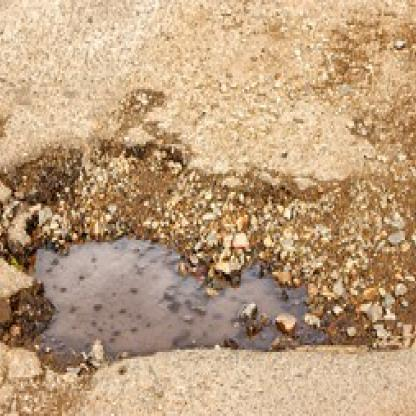pothole: (0, 130, 416, 377)
